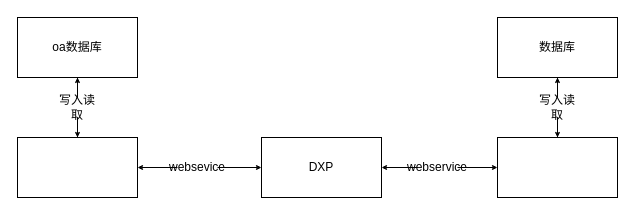
Image size: 635x215. Some labels were removed from this diagram. The shapes that lost their labels are listed below. From the top down, each one's box as (x1, y1, x2, y2) in pixels, then its label:
(16, 136, 138, 198): oa系统web端
(496, 136, 618, 198): 客户服务系统
